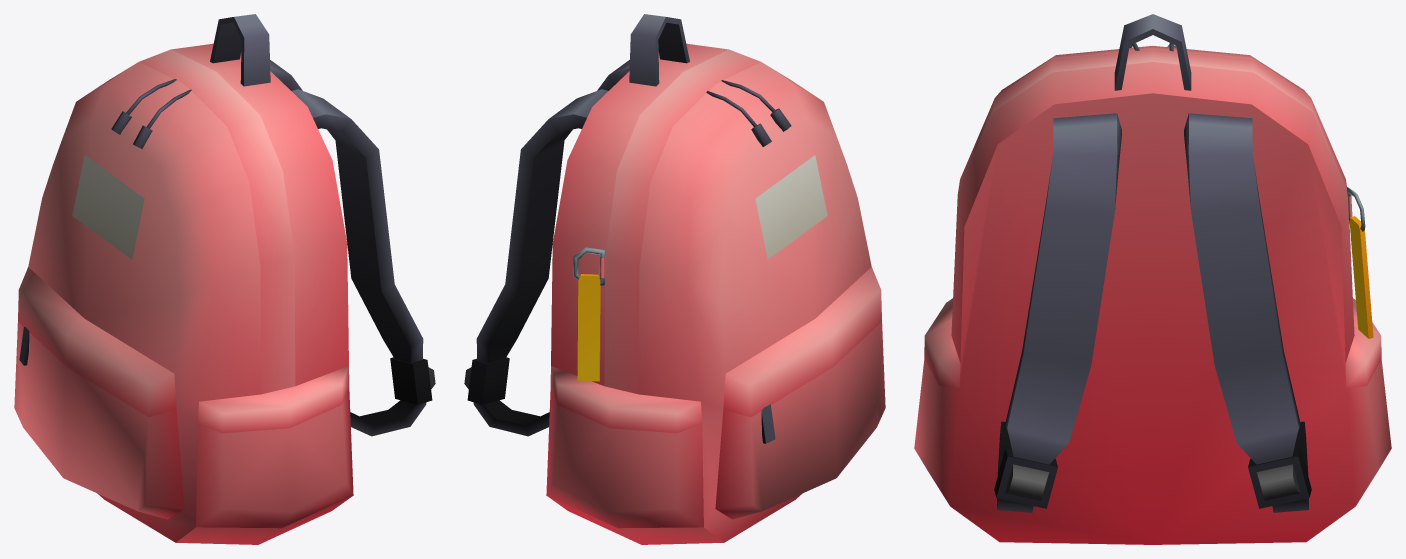
The model's file is CR_Backpack_02.FBX.
3 views of the same model, side by side, from view 1: azimuth 30°, elevation 25°; view 2: azimuth 150°, elevation 25°; view 3: azimuth 270°, elevation 25° (orthographic). The views are drawn at different scales.
Visible parts, largest first — view 1: CR_Backpack_02; view 2: CR_Backpack_02; view 3: CR_Backpack_02.
Part boxes in pixels (<box>): CR_Backpack_02: <box>14,14,435,544</box>; CR_Backpack_02: <box>464,14,885,544</box>; CR_Backpack_02: <box>914,14,1391,544</box>.
Bounding box in the file's own units: 25.93 × 37.43 × 30.69.
